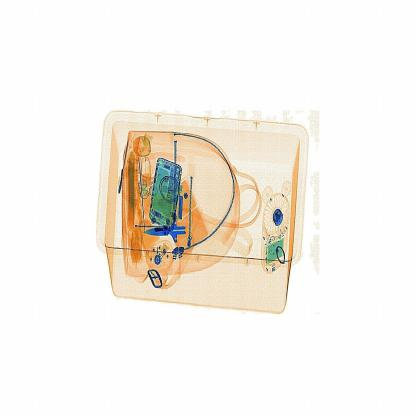gun: (143, 201, 211, 261)
